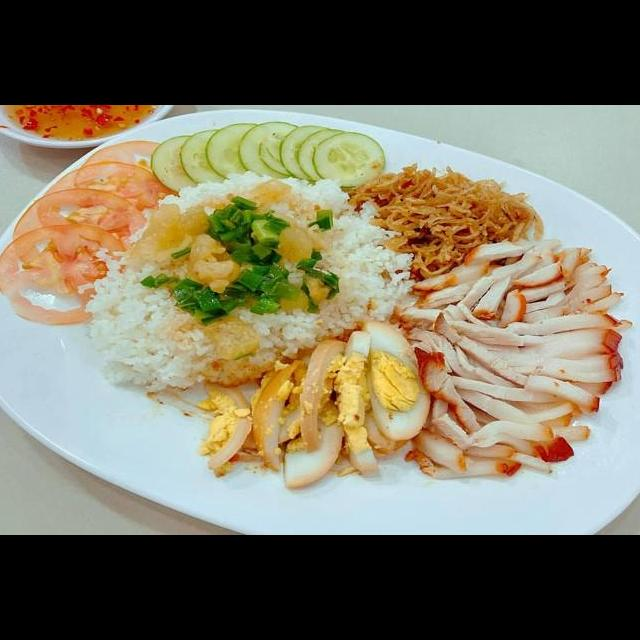bi: (341, 160, 549, 285)
com: (77, 166, 420, 395)
com suon bi trung: (8, 129, 640, 534)
suon: (385, 235, 637, 482)
trung: (195, 316, 434, 491)
